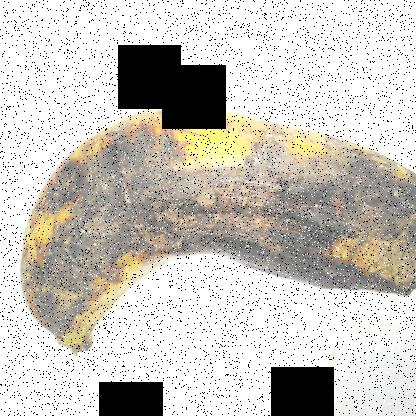rotten: (9, 84, 415, 364)
